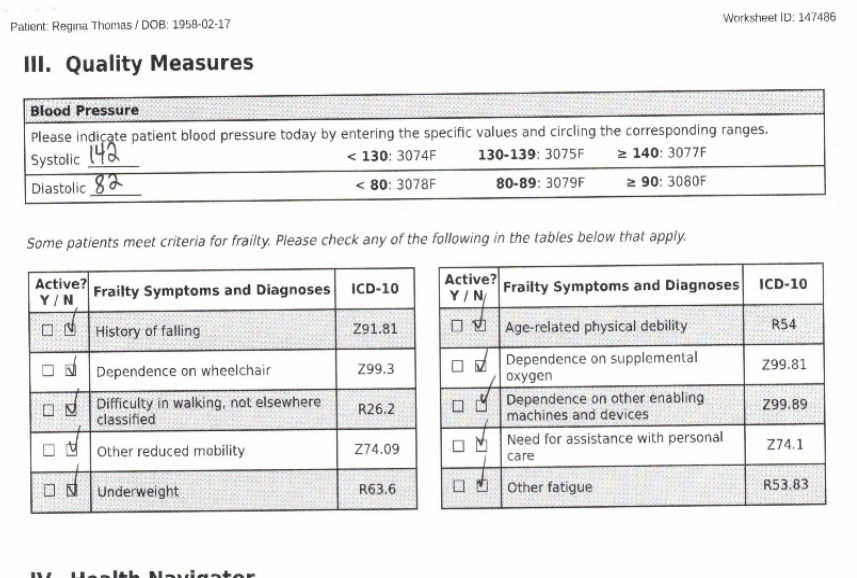checked: (469, 349, 493, 377), (475, 388, 496, 419), (62, 393, 86, 420), (470, 308, 490, 339), (64, 473, 84, 503), (59, 356, 81, 383), (63, 312, 80, 345), (64, 433, 83, 462), (474, 470, 493, 499), (474, 429, 492, 453)
